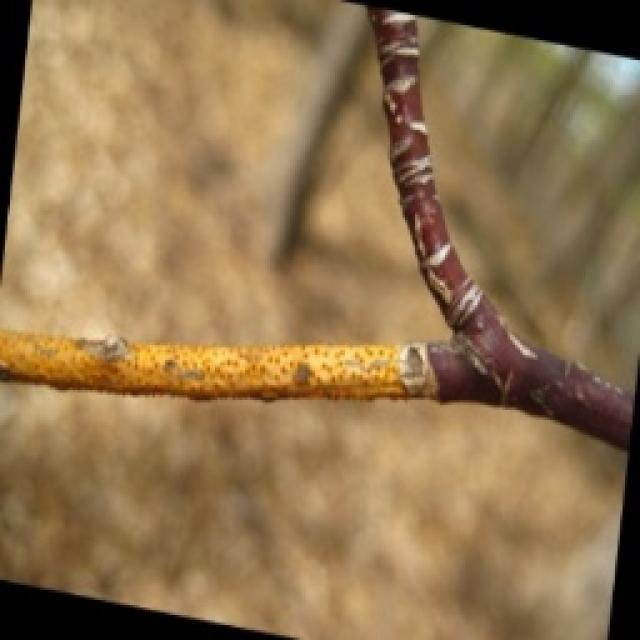Golden_canker: (0, 320, 438, 402)
